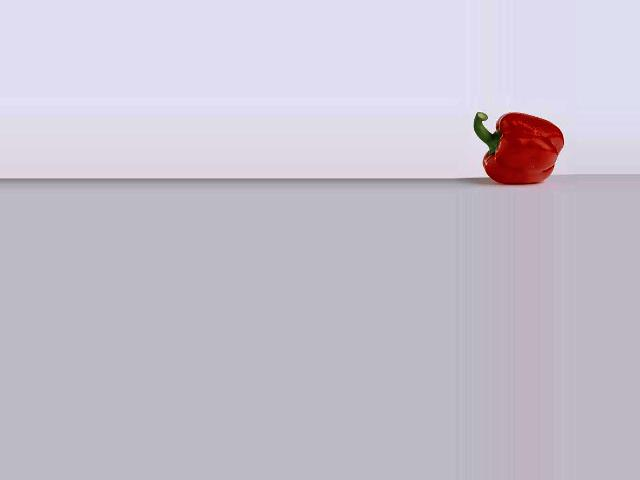bell_pepper: (465, 108, 568, 187)
